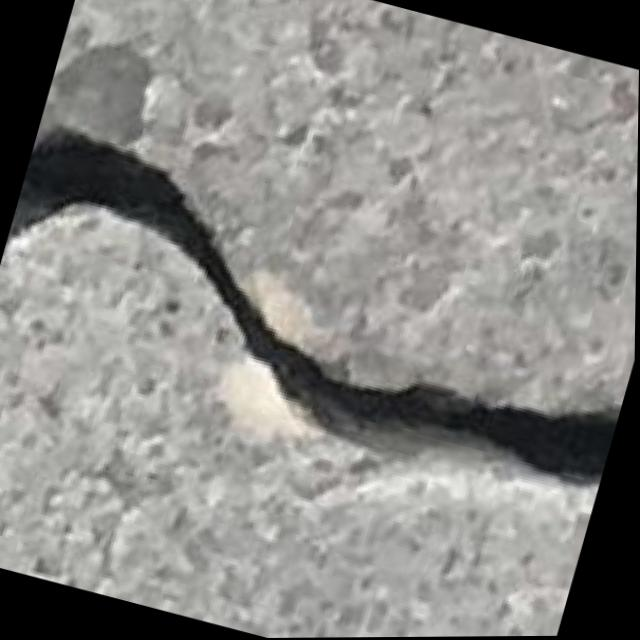Crack: (0, 118, 639, 554)
